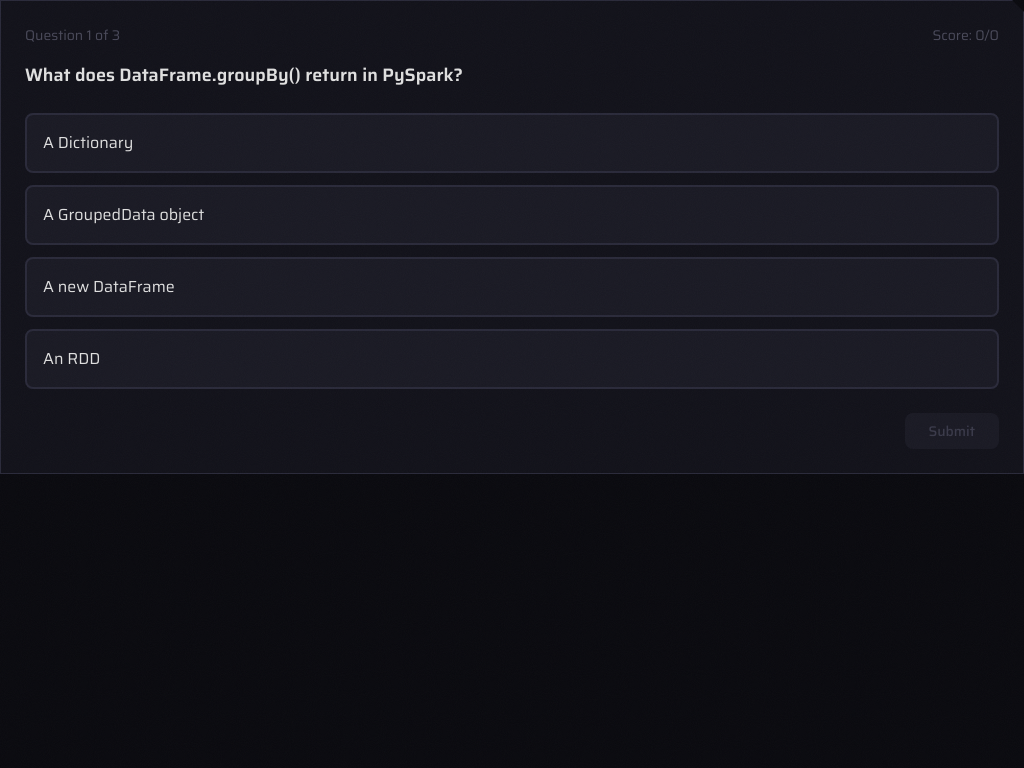
Test: MissionQuiz › Quiz Flow › shows explanation after submission
What coordinates should you click on to do the following:
click the button "A GroupedData object"
I would click on:
 (124, 214)
Its box is [25,185,999,245].
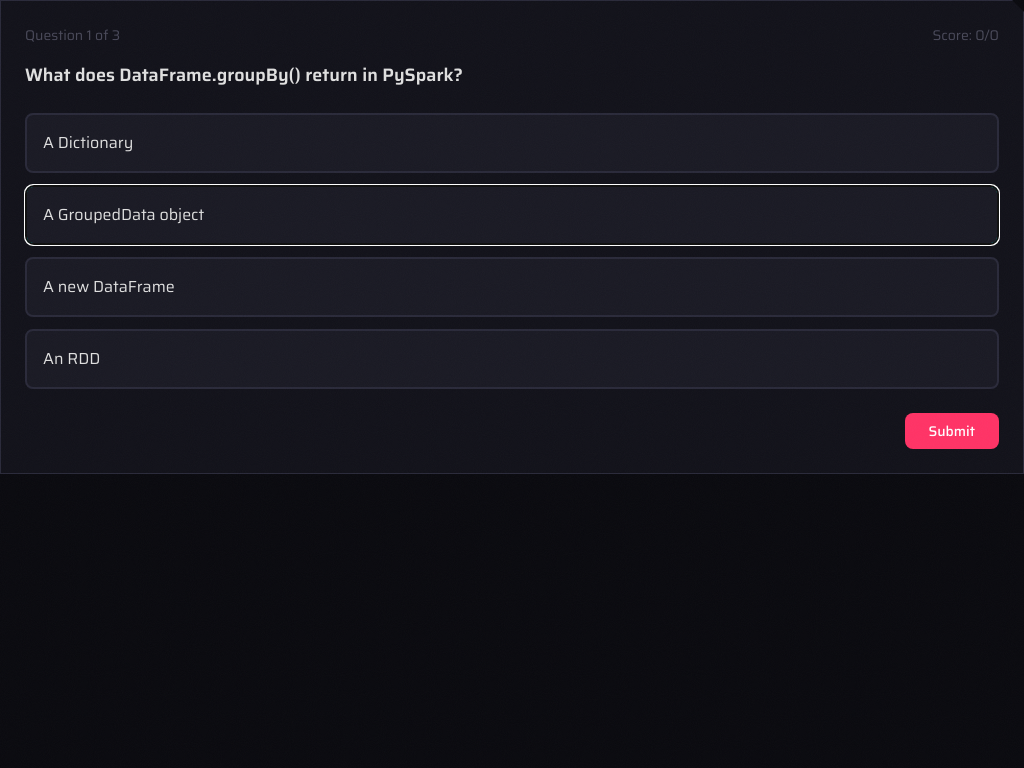
What coordinates should you click on to do the following:
click the button "Submit"
I would click on:
 (952, 431)
Its box is [904,413,999,449].
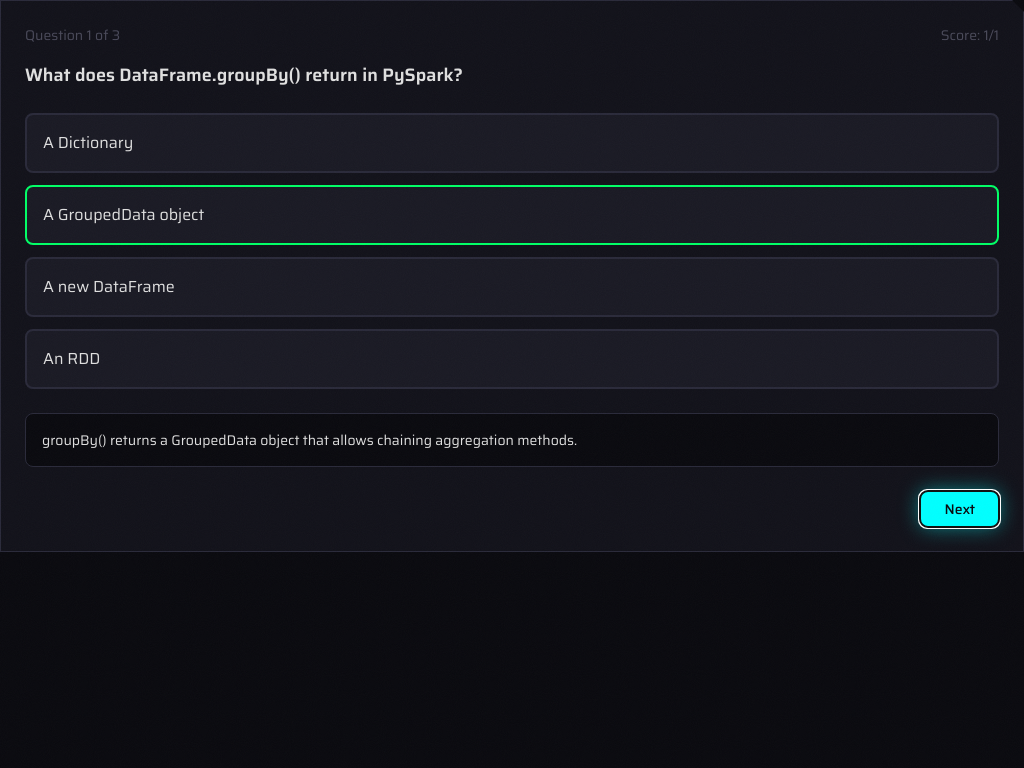
Result: the text "returns a GroupedData object" is shown at [42,429,577,451]
